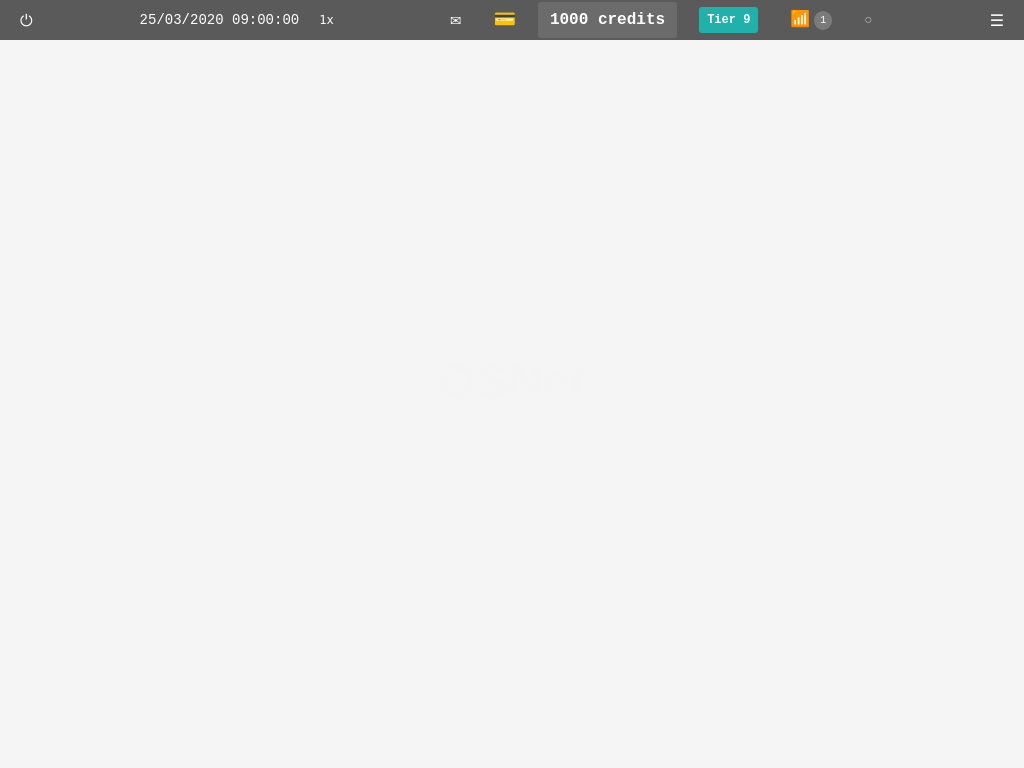
Scenario: Window Management Integration › should preserve app state (dropdown selections) across minimize/restore
The image size is (1024, 768).
Open File Manager
Hover over the button "☰": (997, 20) left=982, top=6, right=1012, bottom=34
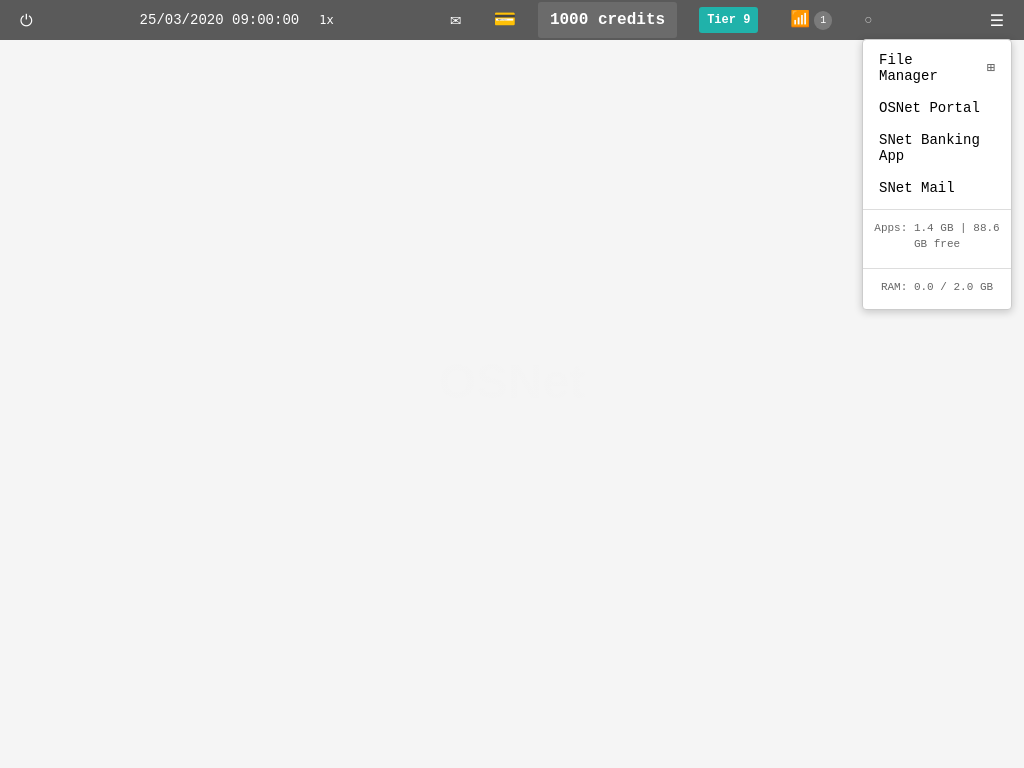
Check: the button "File Manager ⊞" is shown
Click the button "File Manager ⊞": (937, 68) left=863, top=44, right=1011, bottom=92
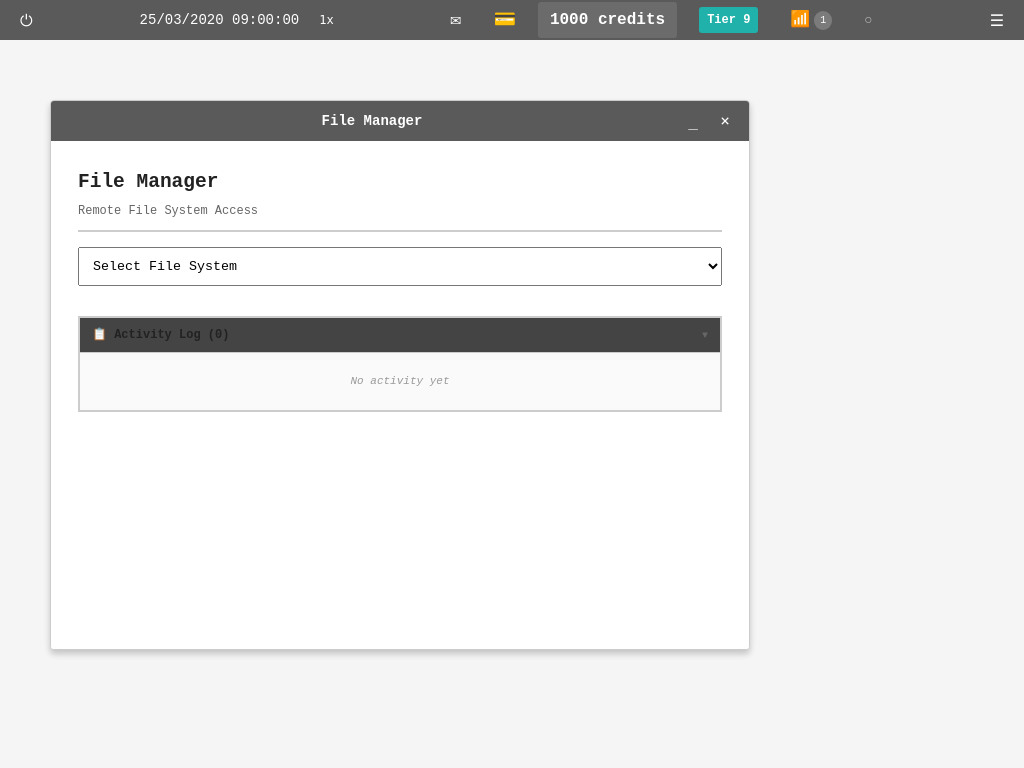
Check: the number of elements with class "window" is 1, box left=50, top=100, right=750, bottom=650
Check: the dropdown is shown
Select "💾 Local SSD" in the dropdown: (400, 267) left=78, top=247, right=722, bottom=286
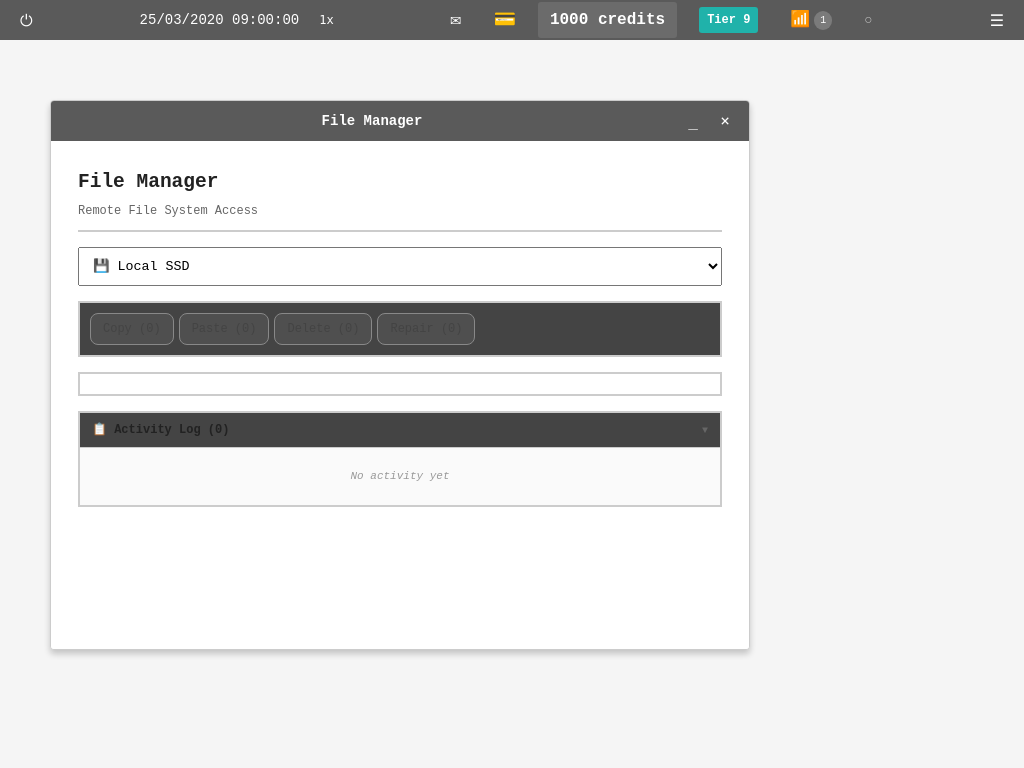
Minimize the window
Click the button titled "Minimize": (693, 121) left=681, top=109, right=705, bottom=133
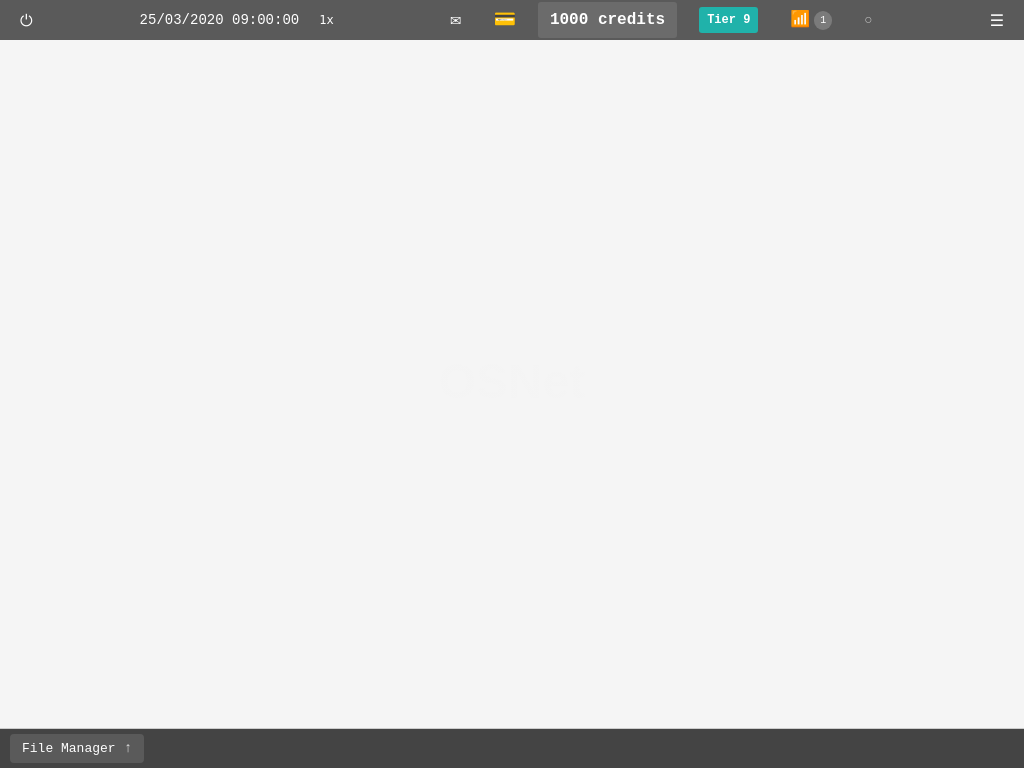
Check: the element with class "minimized-window" is shown
Restore the window
Click the element with class "minimized-window": (77, 748) left=10, top=734, right=144, bottom=763
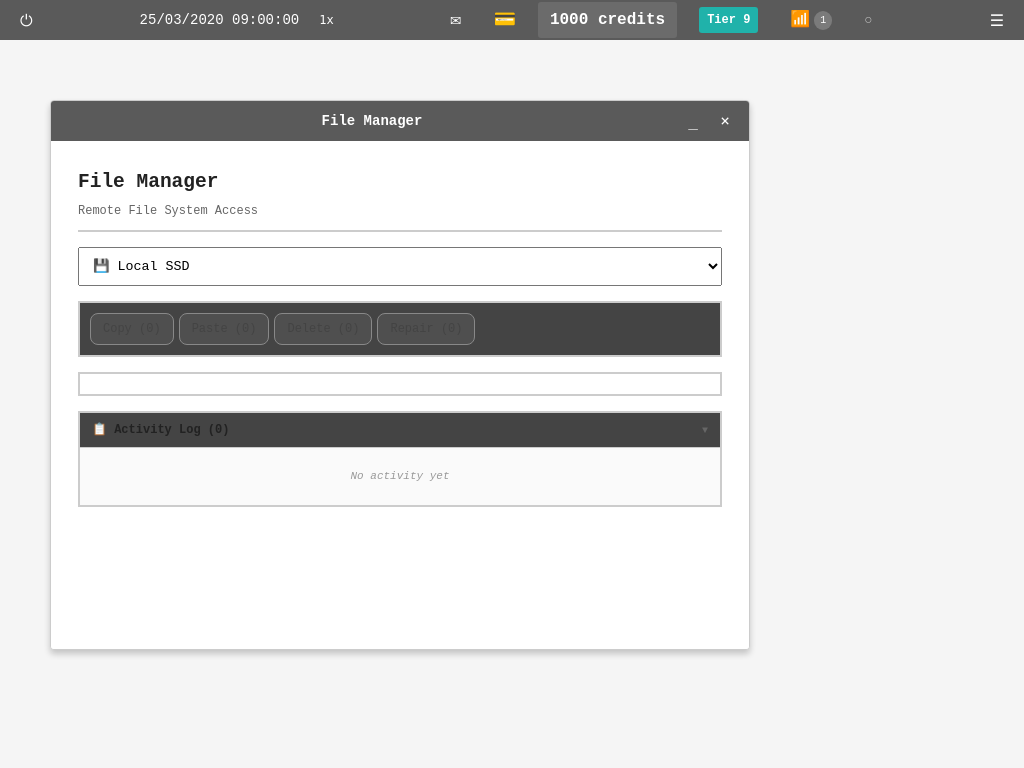
Check: the number of elements with class "window" is 1, box left=50, top=100, right=750, bottom=650
